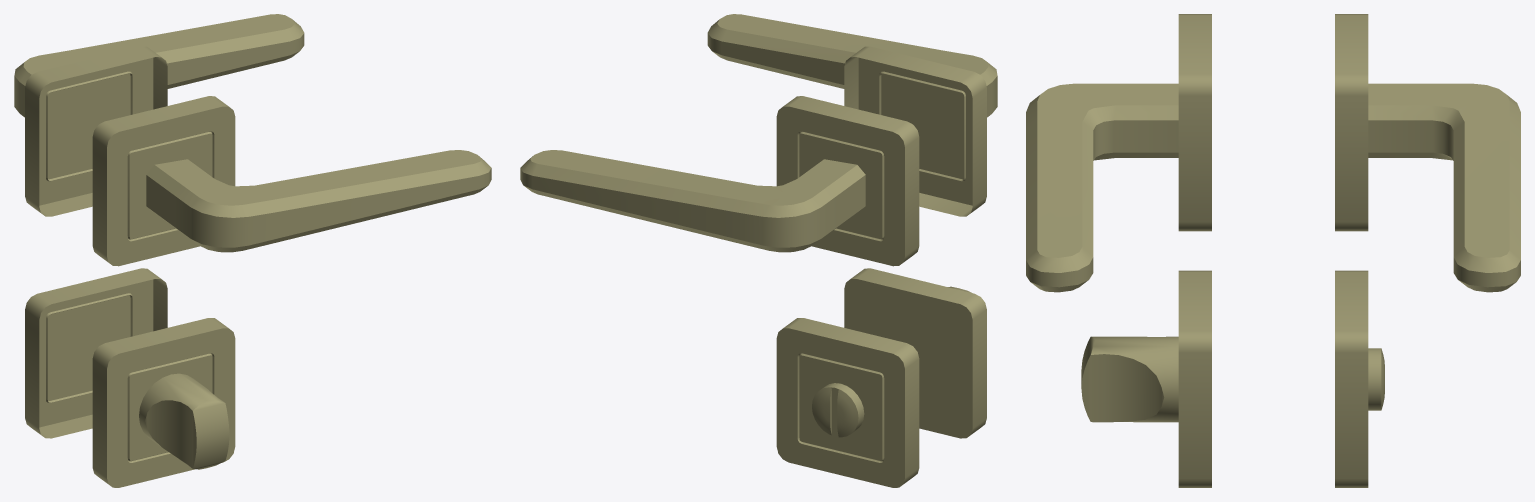
Rendered from 41_HUSTON_Brnak.glb.
The picture shows the model from 3 angles, left to right: view 1: azimuth 30°, elevation 25°; view 2: azimuth 150°, elevation 25°; view 3: azimuth 270°, elevation 25°; orthographic projection. The views are drawn at different scales.
Parts seen in each view (by area): view 1: 41_HUSTON_Brnak; view 2: 41_HUSTON_Brnak; view 3: 41_HUSTON_Brnak.
Boxes of the visible parts, left/top/right/bottom form: 41_HUSTON_Brnak: left=14, top=14, right=491, bottom=487; 41_HUSTON_Brnak: left=520, top=14, right=997, bottom=487; 41_HUSTON_Brnak: left=1026, top=14, right=1520, bottom=487.
Size of the model in its own units: 0.1279 by 0.133 by 0.1447.
